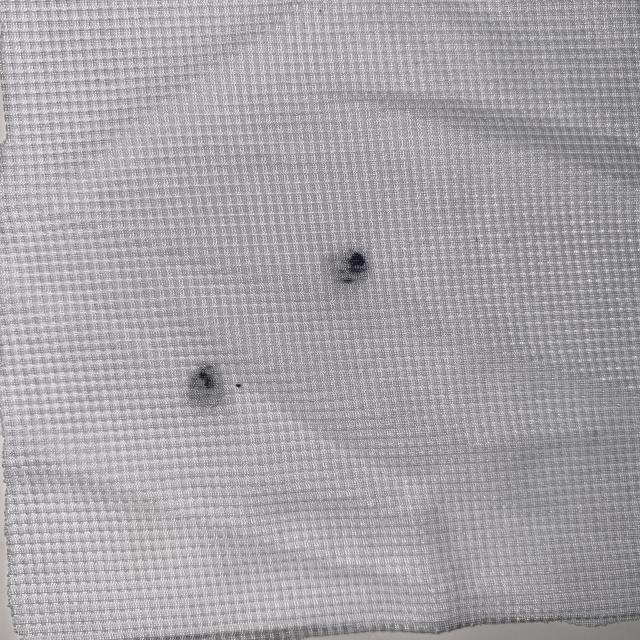Stain: (179, 362, 231, 409), (329, 238, 373, 291)
